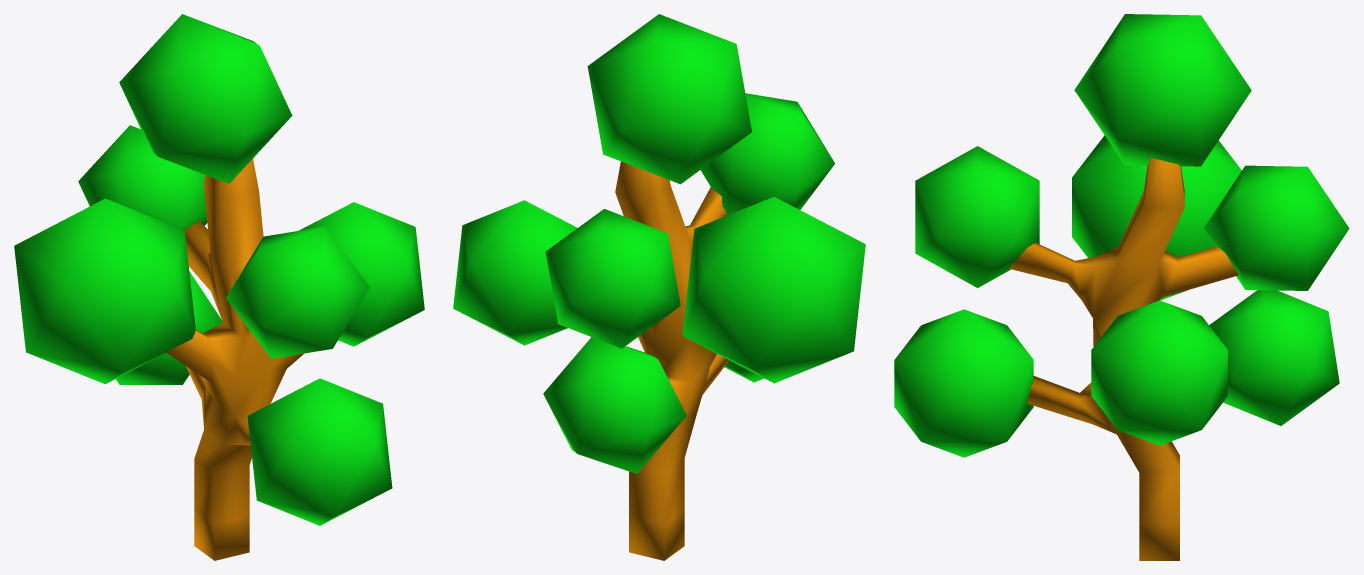
Rendered from tree.glb.
The picture shows the model from 3 angles, left to right: view 1: azimuth 30°, elevation 25°; view 2: azimuth 150°, elevation 25°; view 3: azimuth 270°, elevation 25°; orthographic projection.
Visible parts, largest first — view 1: tree1; view 2: tree1; view 3: tree1.
Part boxes in pixels (left/top/right/bottom): tree1: left=14, top=14, right=424, bottom=560; tree1: left=453, top=14, right=865, bottom=560; tree1: left=894, top=14, right=1349, bottom=560.
Size of the model in its own units: 5.64 by 7.26 by 5.67.
